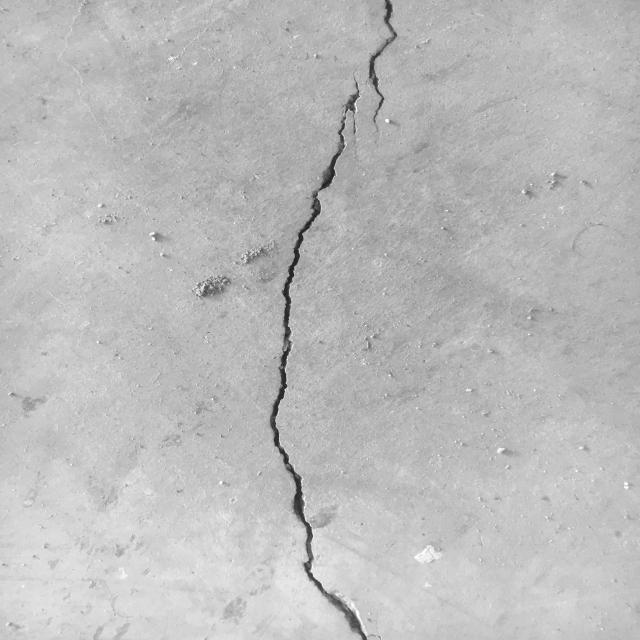SurfaceCrack: (237, 0, 422, 639)
